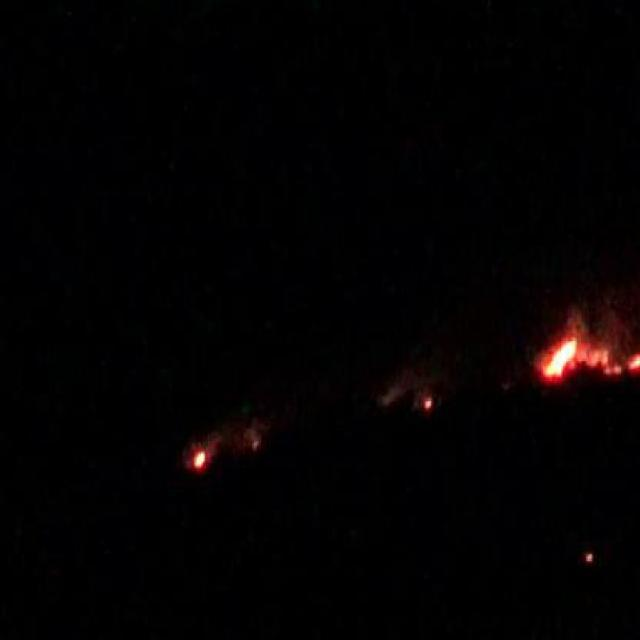Fire: (538, 324, 637, 382), (422, 394, 434, 409), (194, 454, 206, 468)
